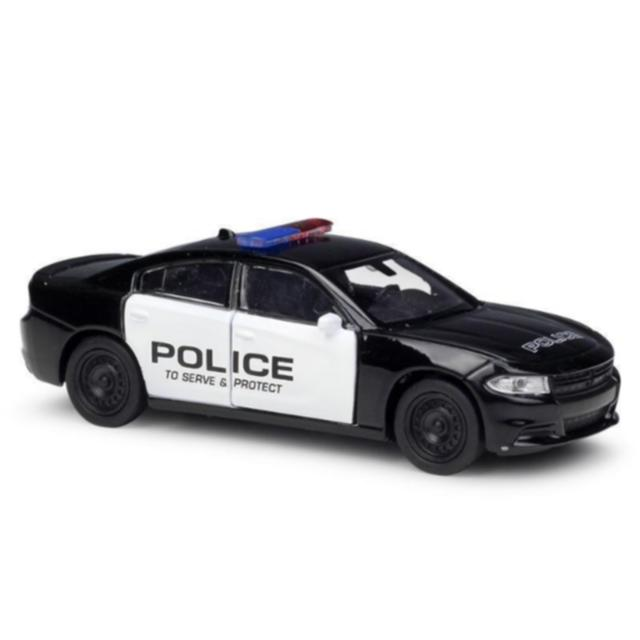police: (20, 211, 622, 493)
